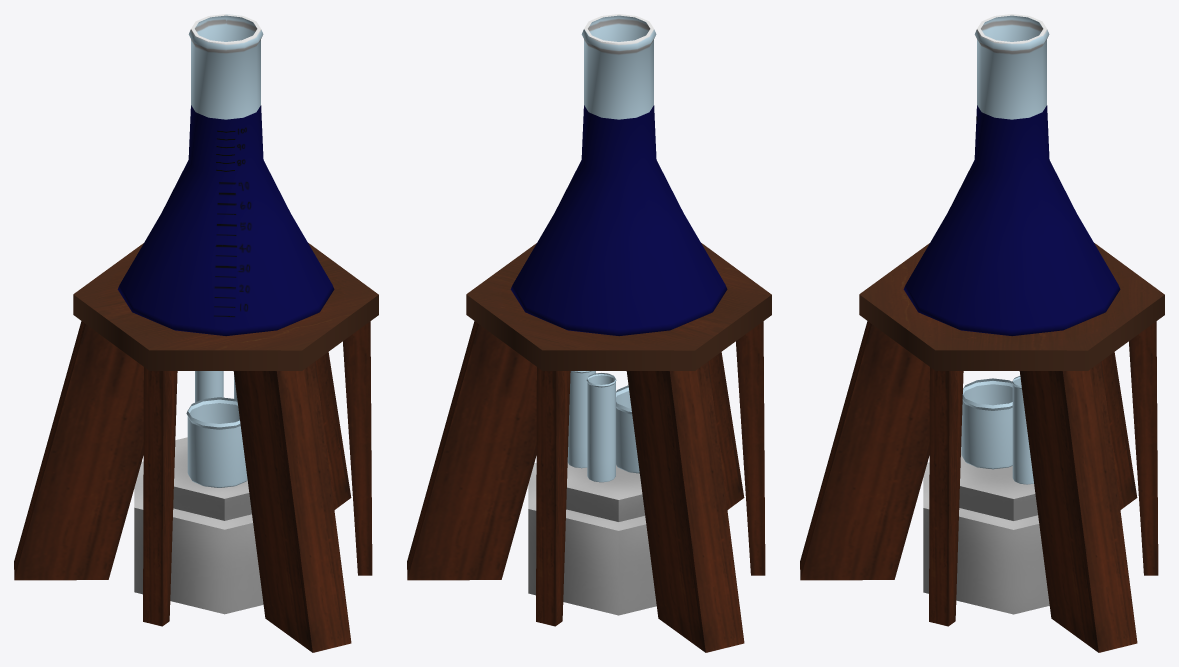
File: lab_mapping.FBX
The picture shows the model from 3 angles, left to right: view 1: azimuth 30°, elevation 25°; view 2: azimuth 150°, elevation 25°; view 3: azimuth 270°, elevation 25°; orthographic projection.
Parts seen in each view (by area): view 1: object; view 2: object; view 3: object.
Boxes of the visible parts, x1,y1,x2,y2 form: object: (14, 14, 378, 652); object: (407, 14, 771, 652); object: (800, 14, 1164, 652).
Size of the model in its own units: 514 by 789 by 481.
